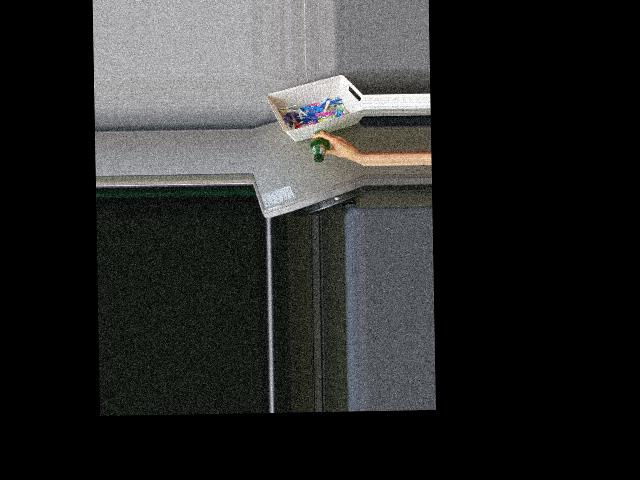beer: (310, 130, 330, 162)
